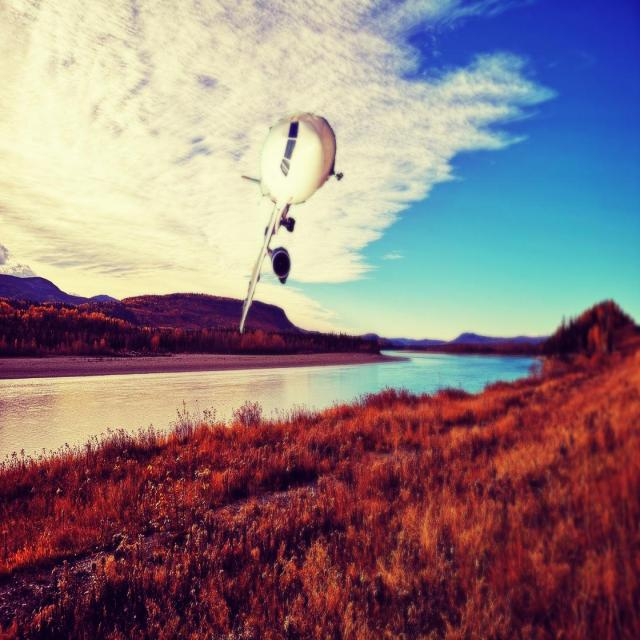airplane: (238, 110, 343, 334)
